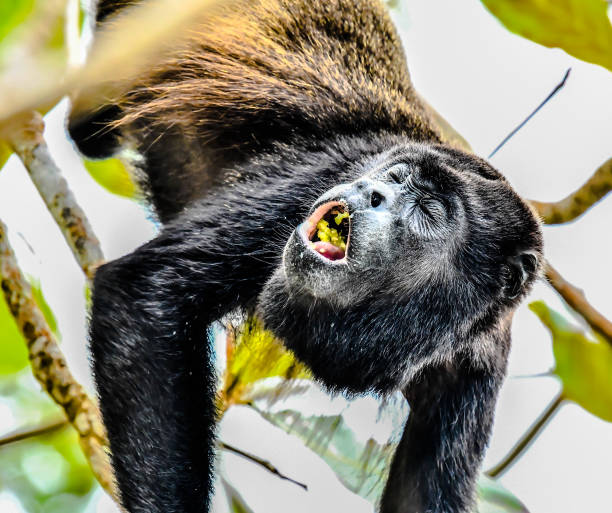chimpanzee: (255, 131, 507, 350)
